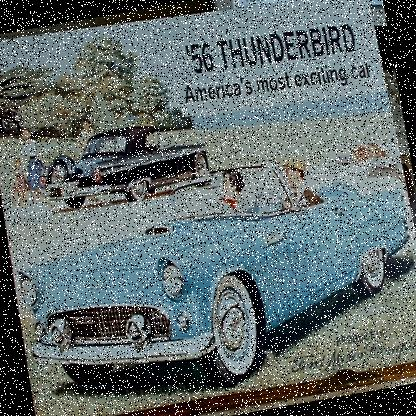Car: (6, 140, 415, 415), (39, 114, 213, 216)
